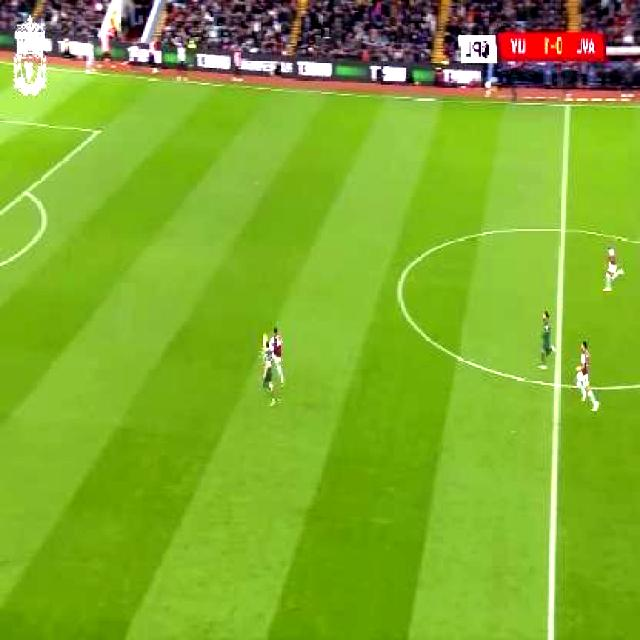bigarea_top_inner: (90, 120, 108, 142)
halfcircle_bottom: (548, 368, 569, 400)
halfcircle_top: (551, 214, 577, 246)
midline_top_intersection: (560, 92, 577, 116)
top_arc_area_intersection: (20, 180, 35, 202)
